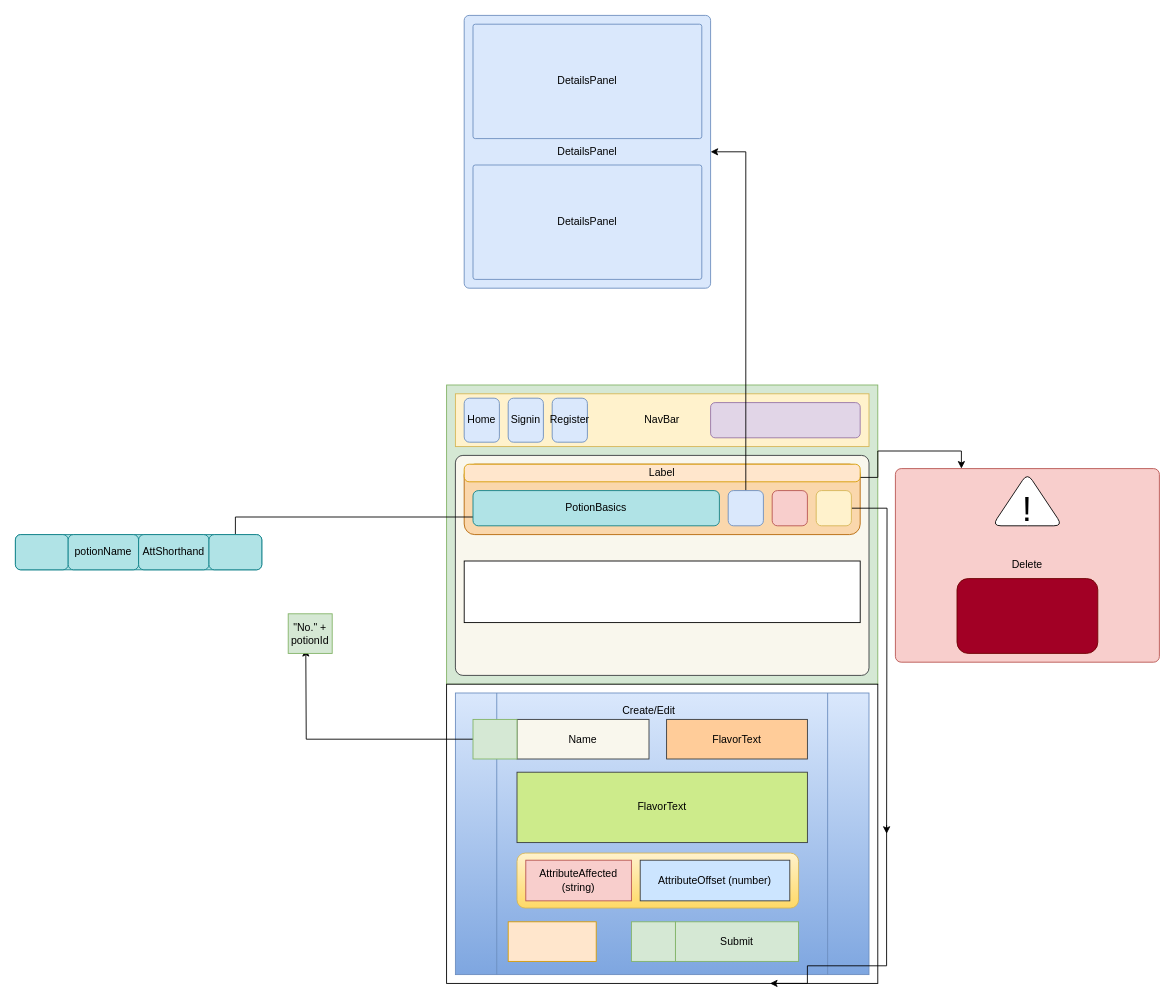
The diagram is 1175 pixels wide and 1006 high, and some of its shapes have lost their labels. The shapes that lost their labels are listed below. From the top down, each one's centre as x and y in pixels, then its label:
At (x=785, y=420): "Icon/Logo".
At (x=745, y=508): "Details Button".
At (x=789, y=508): "Trash Button".
At (x=833, y=508): "Edit Button".
At (x=41, y=552): "potionId".
At (x=235, y=552): "Mod".
At (x=1027, y=615): "DeleteConfirm".
At (x=494, y=739): "Identifier".
At (x=551, y=941): "Return".
At (x=653, y=941): "Quantity".
